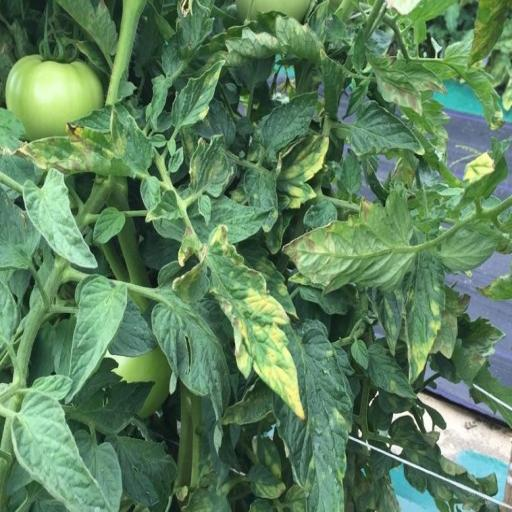Healthy: (8, 390, 122, 512), (67, 269, 132, 406), (22, 171, 98, 276), (433, 218, 504, 274)
Leaf Mold: (173, 225, 307, 419), (288, 182, 430, 300), (22, 110, 147, 178), (398, 244, 438, 382), (279, 132, 330, 211), (170, 58, 226, 129), (187, 134, 237, 198)
